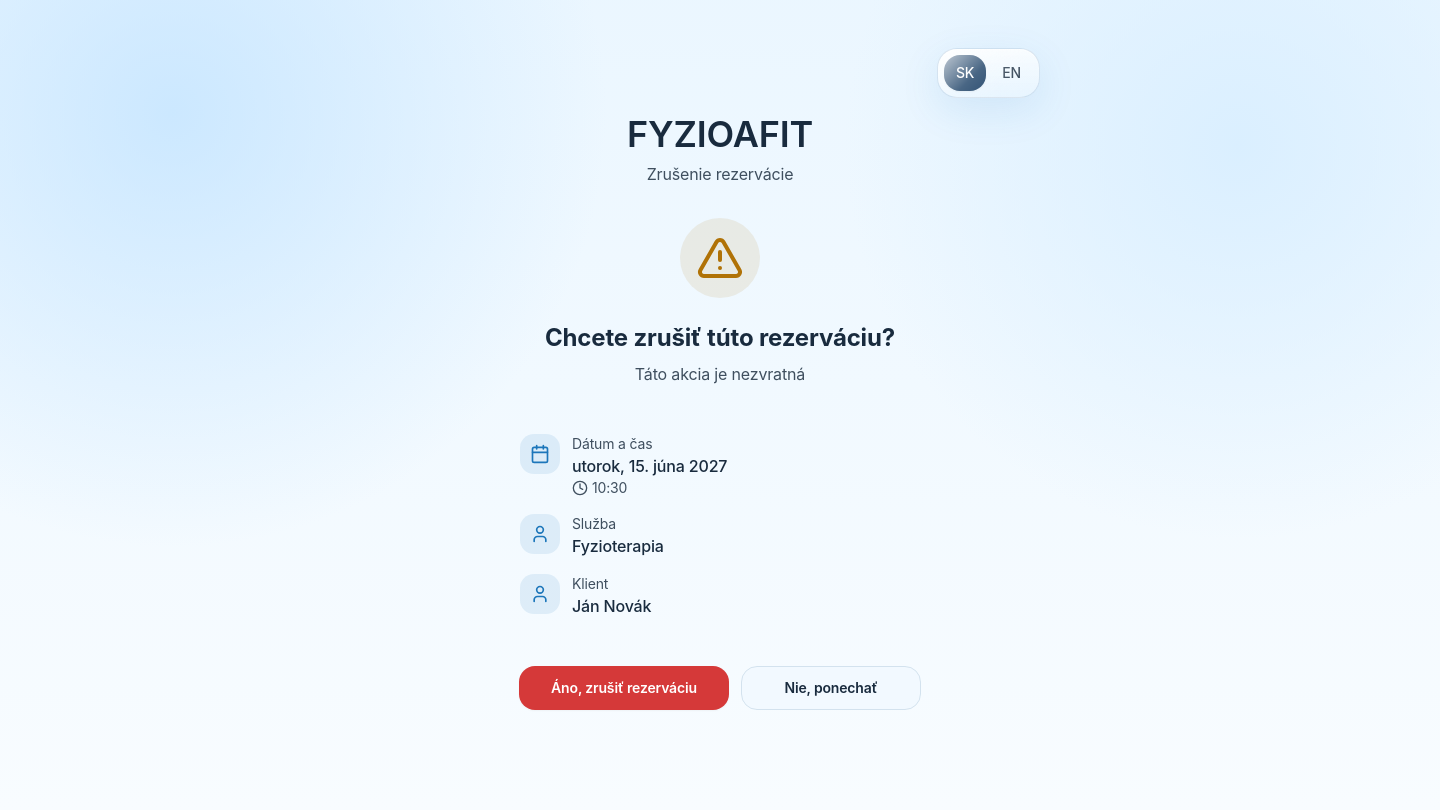
CancelBooking › should show TOO_LATE_TO_CANCEL error
Click the button "Áno, zrušiť rezerváciu" at (624, 688), box x1=519 y1=666 x2=729 y2=710
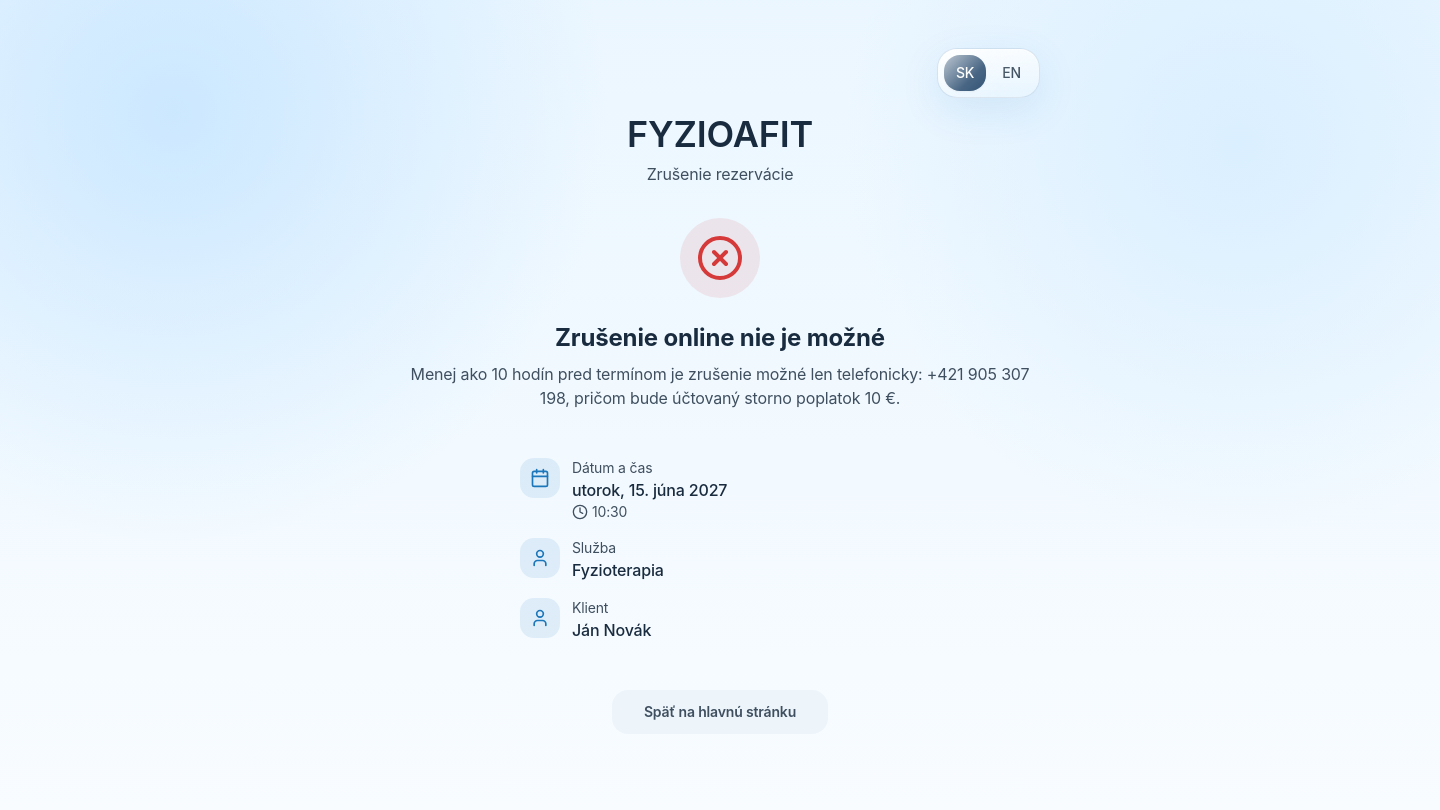
Expected: the heading "Zrušenie online nie je možné" is shown, x1=555 y1=323 x2=885 y2=352
Expected: the text "+421 905 307 198" is shown, x1=411 y1=364 x2=1029 y2=408
